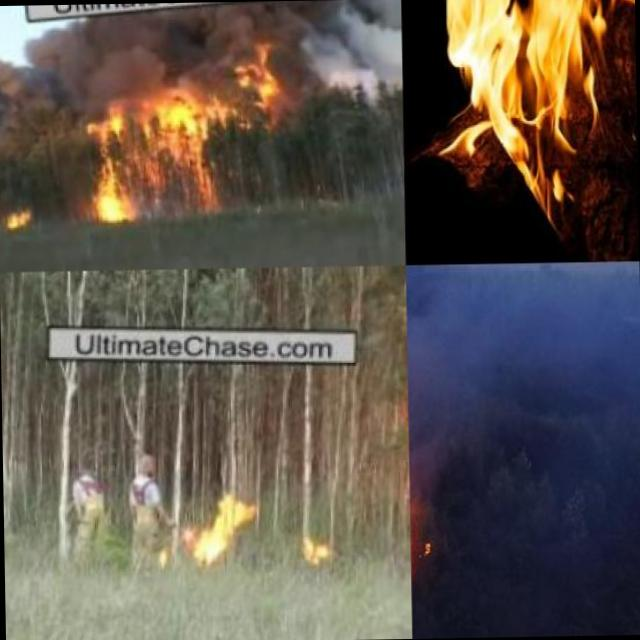fire: (436, 0, 638, 227), (76, 83, 237, 228), (188, 494, 255, 564), (210, 46, 286, 106), (409, 452, 435, 586), (0, 197, 47, 238), (297, 528, 331, 564)
smoke: (406, 279, 486, 492), (18, 18, 212, 86), (284, 3, 402, 111)
